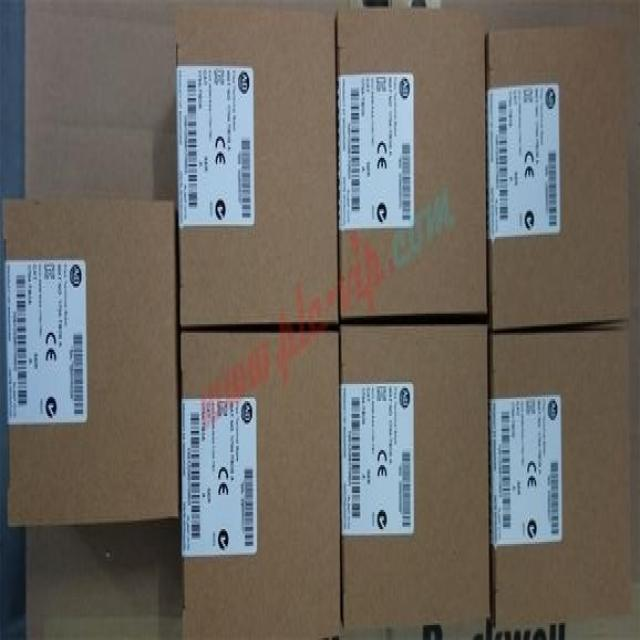box: (2, 201, 180, 523), (176, 4, 339, 328), (179, 329, 341, 638), (337, 14, 487, 319), (487, 18, 632, 330), (340, 325, 488, 628), (489, 328, 631, 629)
